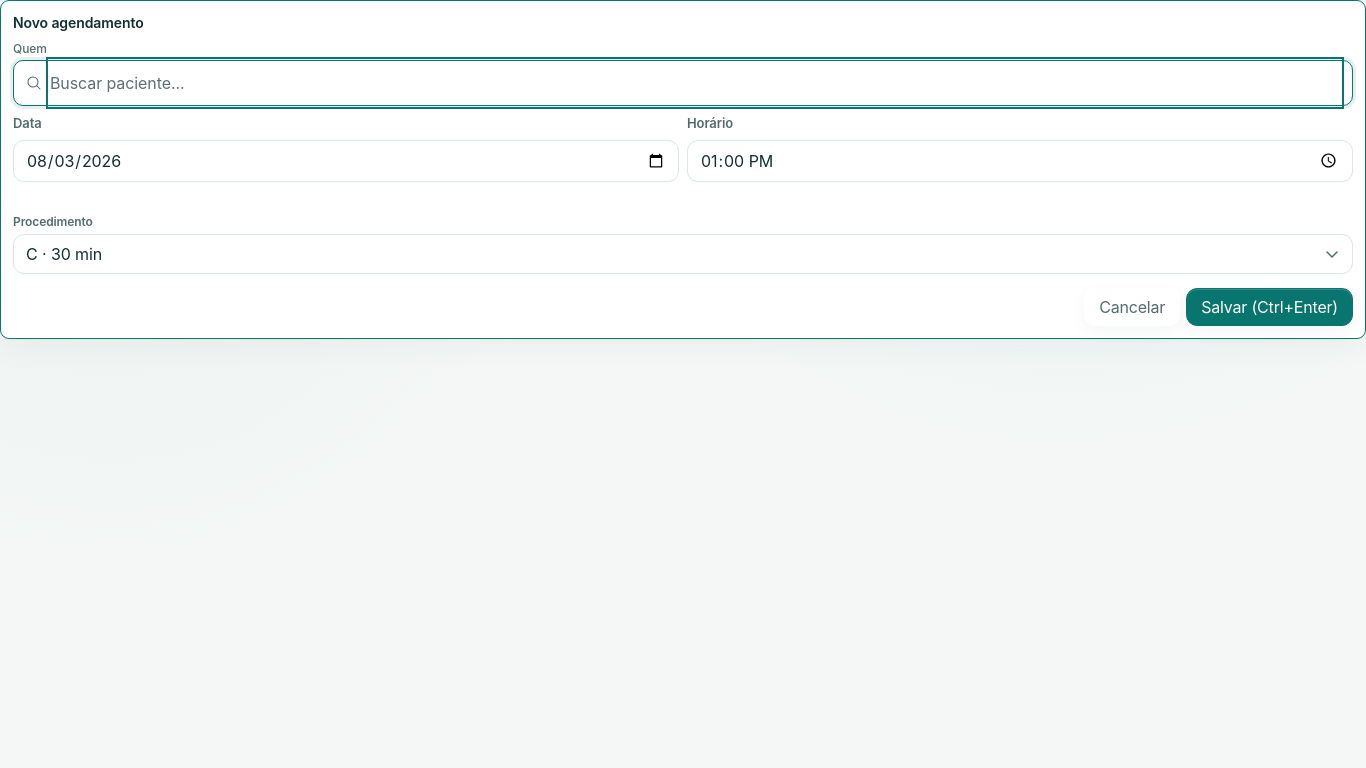
Test: fluxo critico (a) — recepcionista agenda paciente novo, com ele na linha › conflito de horario oferece "Encaixar mesmo assim", nao um erro seco
The image size is (1366, 768).
Type "maria" into the dropdown labelled "Quem" at (695, 83), box [50,61,1340,105]
Wait 120 ms
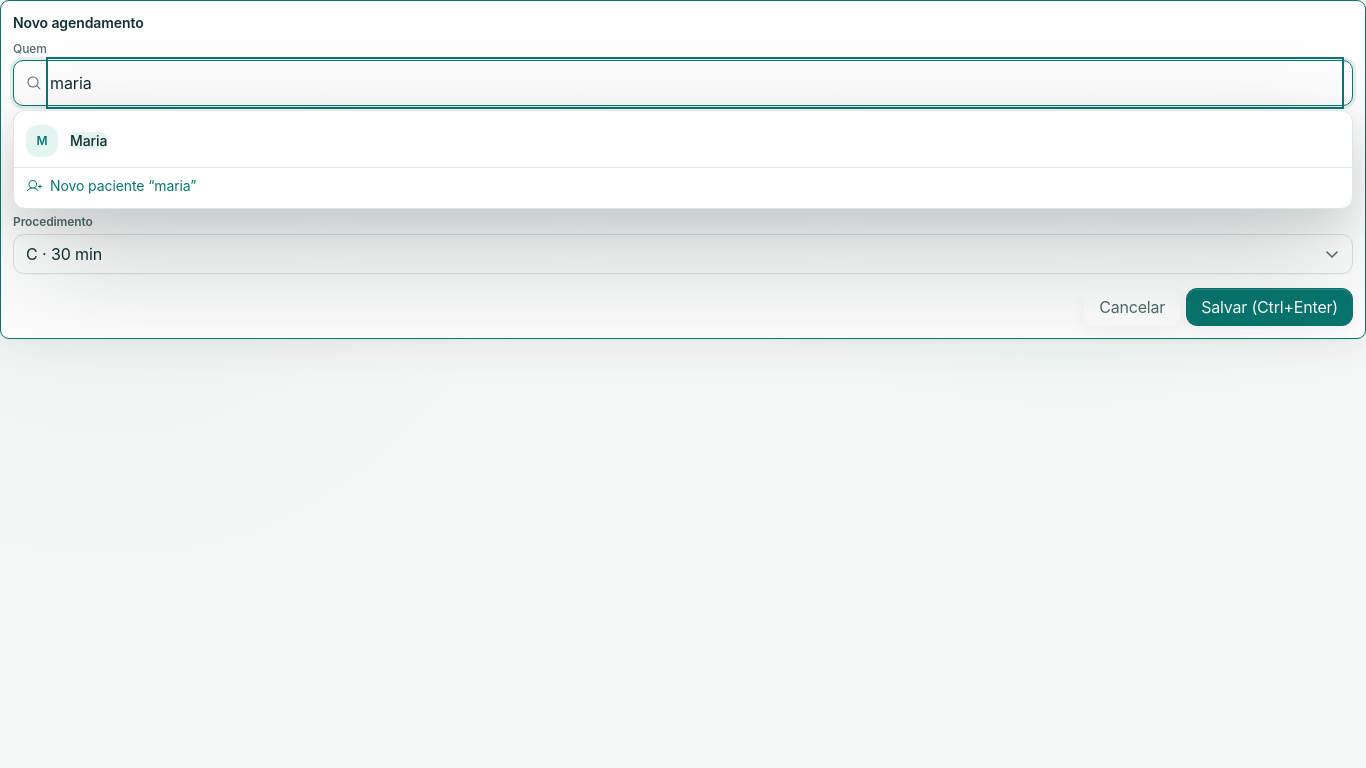
Click the option "M Maria" at (42, 141), box [26,125,107,157]
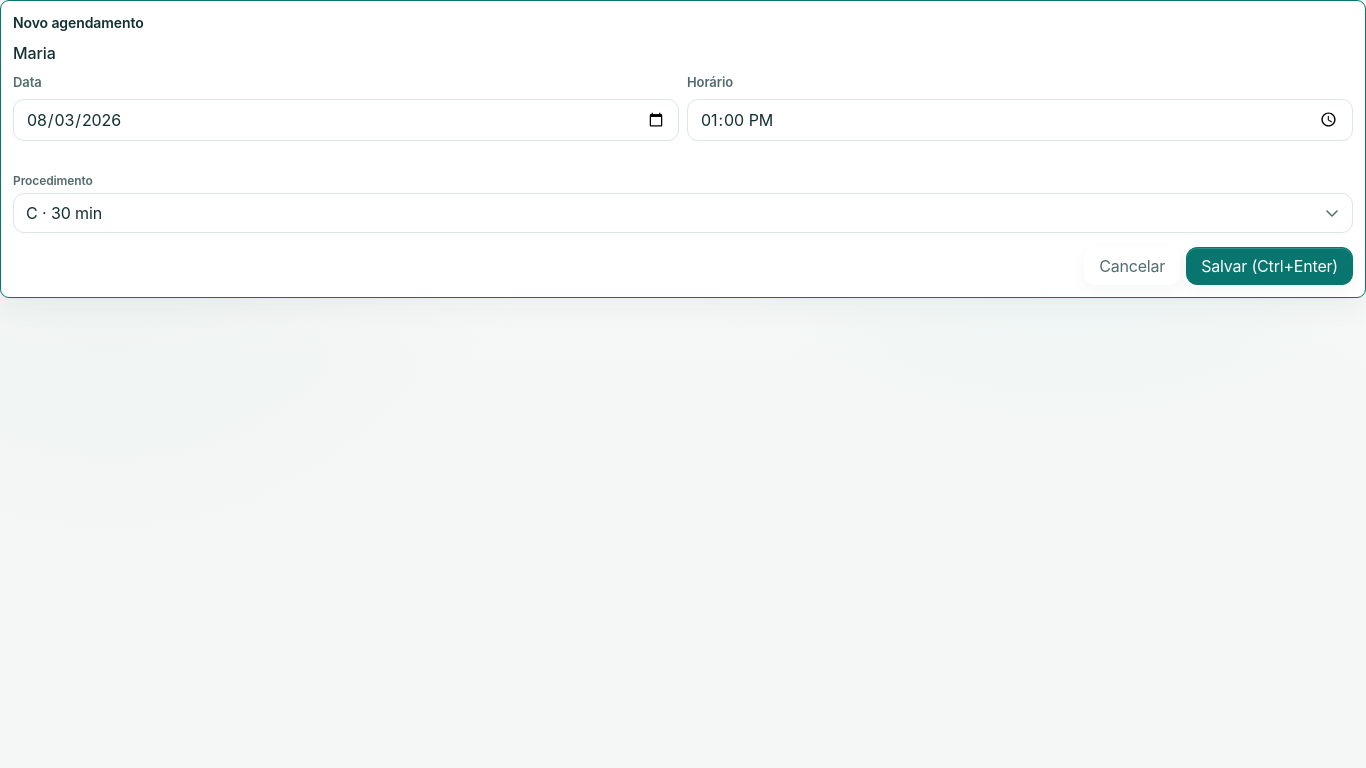
Click the button "Salvar (Ctrl+Enter)" at (1270, 266), box [1186,246,1353,284]
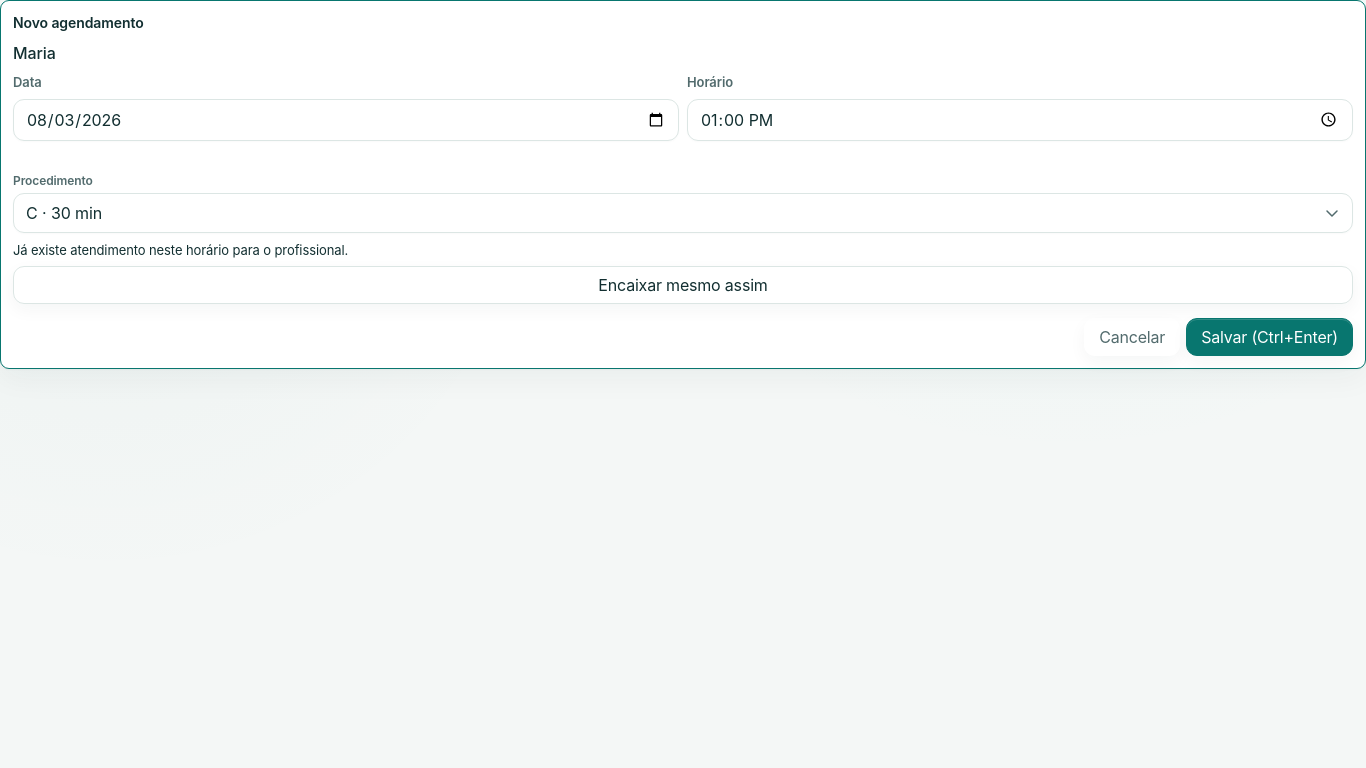
Check: the button "Encaixar mesmo assim" is shown, box [13,266,1353,304]
